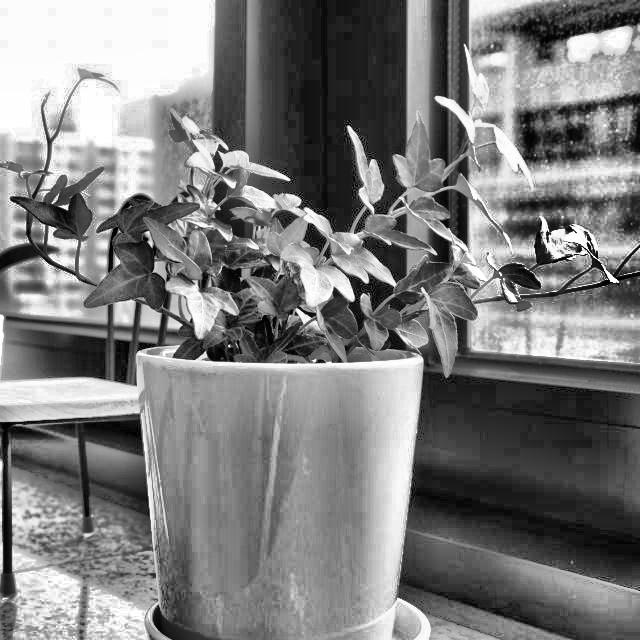plants: (31, 84, 619, 586)
